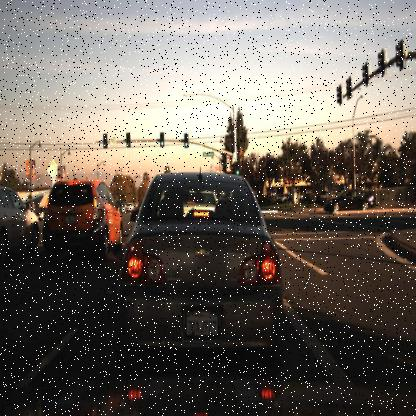car: (110, 158, 302, 393), (36, 167, 126, 279), (42, 177, 125, 261), (0, 176, 45, 266), (319, 182, 377, 220), (8, 185, 48, 222)
trafficLight: (124, 131, 132, 153), (159, 129, 167, 148)
trafficLight-Green: (178, 127, 192, 158), (100, 128, 110, 156), (233, 160, 241, 185), (157, 129, 165, 152)
trafficLight-GreenLeft: (102, 129, 110, 150)
trafficLight-Red: (234, 160, 242, 178), (182, 132, 189, 152)
